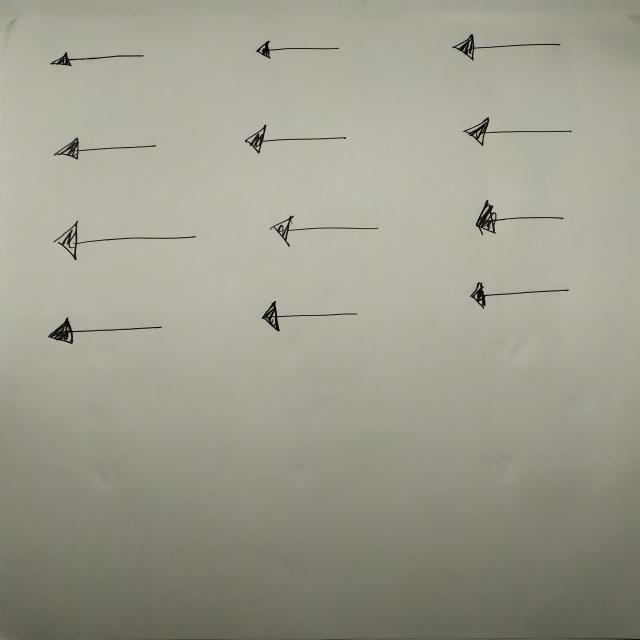arrow_line_left: (38, 217, 216, 264), (237, 296, 386, 339), (455, 198, 598, 240), (251, 211, 397, 251), (443, 113, 592, 151), (37, 310, 175, 351), (455, 275, 586, 312), (439, 29, 580, 63), (34, 132, 180, 164), (230, 120, 352, 154), (240, 36, 354, 63), (39, 47, 154, 69)
